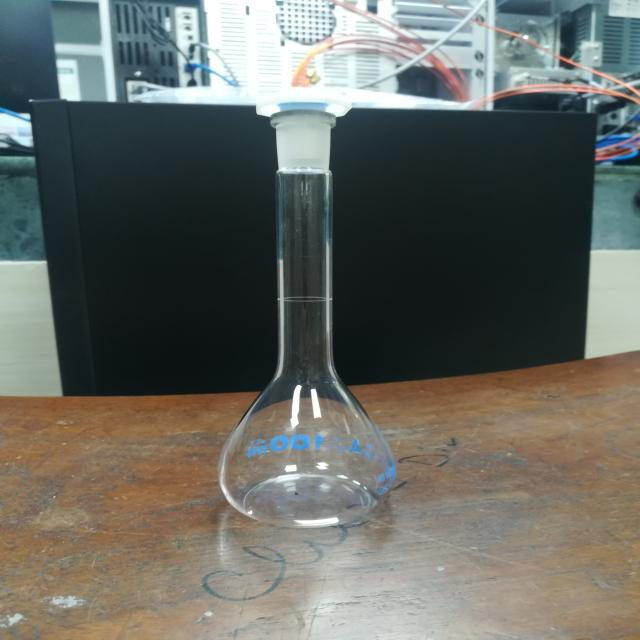Volumetric_Flask: (183, 66, 444, 554)
